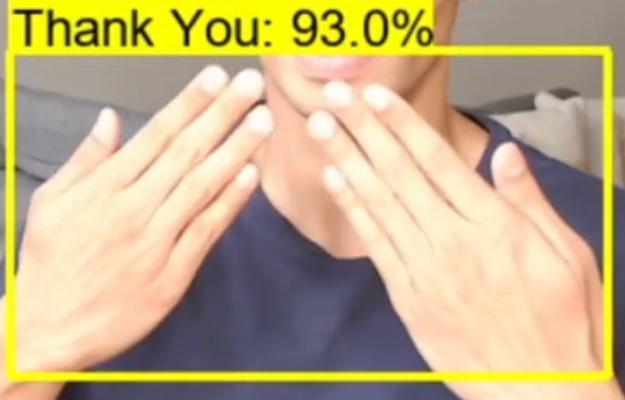Thankyou: (8, 50, 623, 400)
